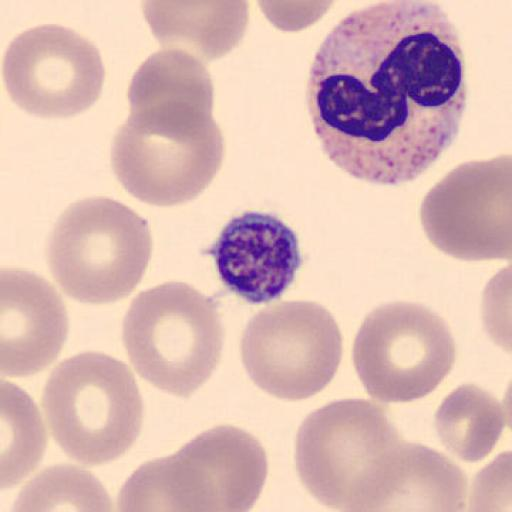Platelet: (208, 207, 307, 306)
RBC: (108, 98, 226, 209), (120, 280, 227, 398), (40, 348, 145, 468), (44, 194, 155, 307), (293, 396, 400, 511), (238, 296, 345, 404), (350, 298, 458, 404), (418, 152, 512, 263), (2, 21, 106, 121), (344, 440, 468, 512), (171, 422, 270, 512), (125, 46, 216, 139), (2, 265, 71, 378), (139, 0, 252, 65), (116, 451, 220, 512), (433, 382, 506, 464), (5, 462, 115, 512), (2, 378, 48, 491), (255, 0, 378, 34), (463, 445, 512, 512), (479, 260, 512, 358), (254, 0, 340, 34)
WBC: (302, 0, 469, 186)
